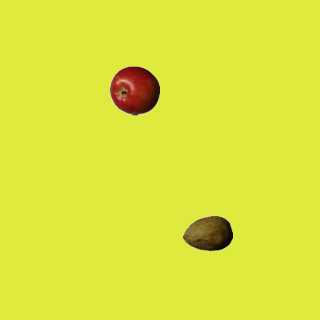Apple Braeburn: (109, 65, 159, 115)
Papaya: (182, 208, 232, 258)
